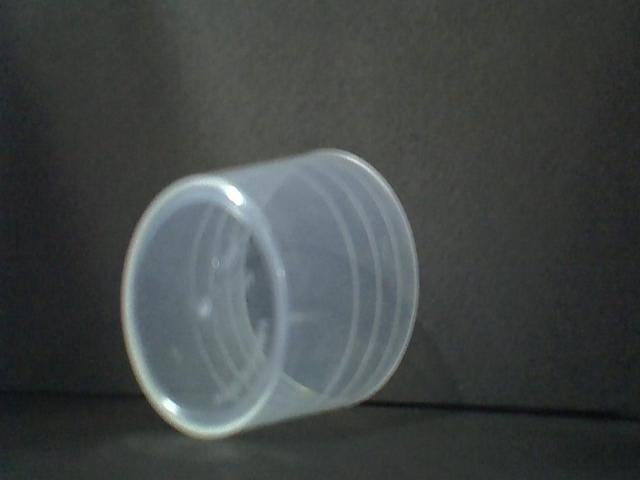cup: (114, 143, 423, 454)
